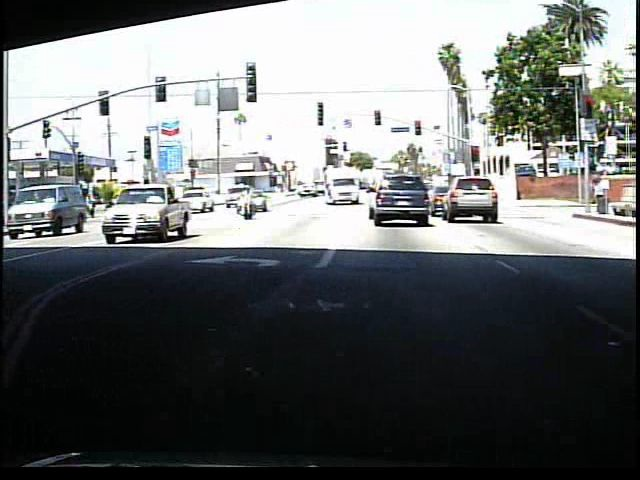person: (238, 185, 256, 220)
